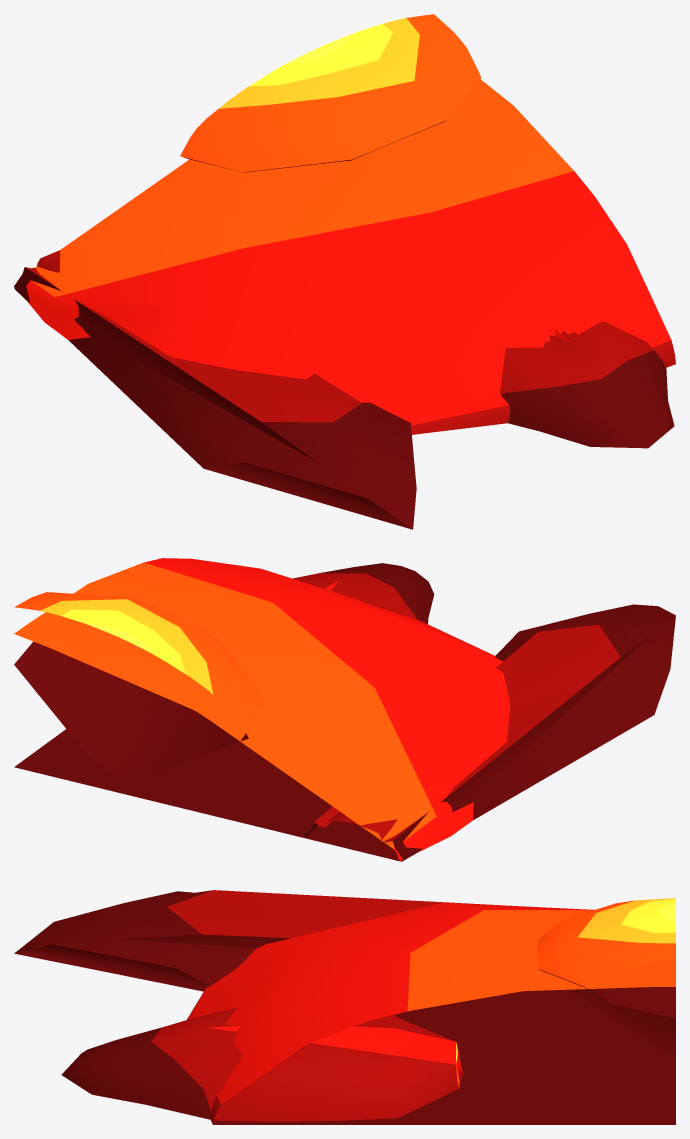
The model's file is shot_dflame_28.glb.
3 renders of one model, top to bottom at view 1: azimuth 30°, elevation 25°; view 2: azimuth 150°, elevation 25°; view 3: azimuth 270°, elevation 25°, orthographic. The views are drawn at different scales.
Parts seen in each view (by area): view 1: dflame_wall_bed_b28, dflame_wall_tongue1_b28, dflame_wall_billow5_b28, dflame_wall_tongue6_b28; view 2: dflame_wall_bed_b28, dflame_wall_tongue1_b28, dflame_wall_billow5_b28, dflame_wall_tongue6_b28; view 3: dflame_wall_bed_b28, dflame_wall_tongue6_b28, dflame_wall_tongue1_b28, dflame_wall_billow5_b28.
Part boxes in pixels (x1,y1,x2,y2): dflame_wall_bed_b28: (26,79,675,434); dflame_wall_tongue1_b28: (14,250,416,529); dflame_wall_billow5_b28: (180,14,481,172); dflame_wall_tongue6_b28: (500,321,674,448); dflame_wall_bed_b28: (14,558,509,861); dflame_wall_tongue1_b28: (304,604,675,861); dflame_wall_billow5_b28: (14,592,264,776); dflame_wall_tongue6_b28: (293,563,434,624); dflame_wall_bed_b28: (187,902,675,1124); dflame_wall_tongue6_b28: (61,1008,463,1121); dflame_wall_tongue1_b28: (14,890,511,991); dflame_wall_billow5_b28: (537,898,675,1058).
Bounding box in the file's own units: 10.78 × 3.93 × 14.
